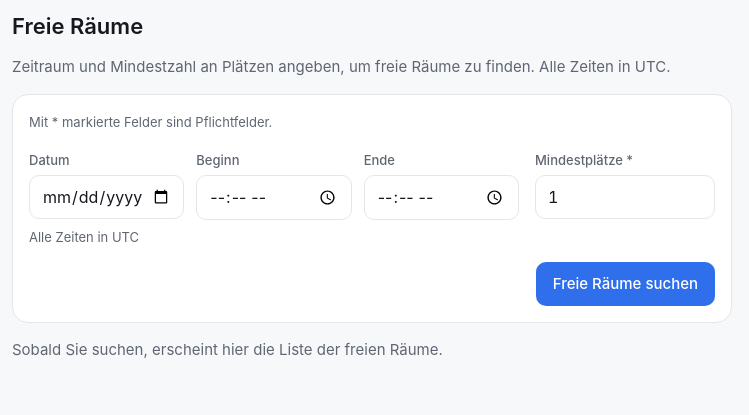
Test case: AvailabilityPage › marks an invalid field with the error state after submit
Click the button "Freie Räume suchen" at [625, 284], box [536,262,715,306]
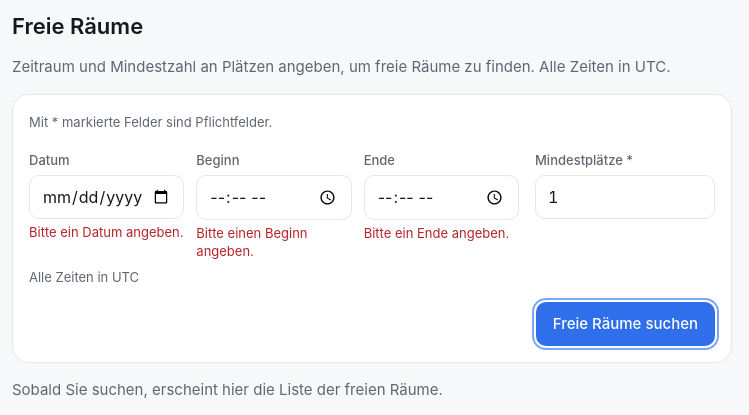
Expected: the date field with class "datetime-field__input--error" showing "Datum" is shown, [29,175,184,219]
Result: the text "Bitte ein Datum angeben." is shown at [29,223,184,241]
